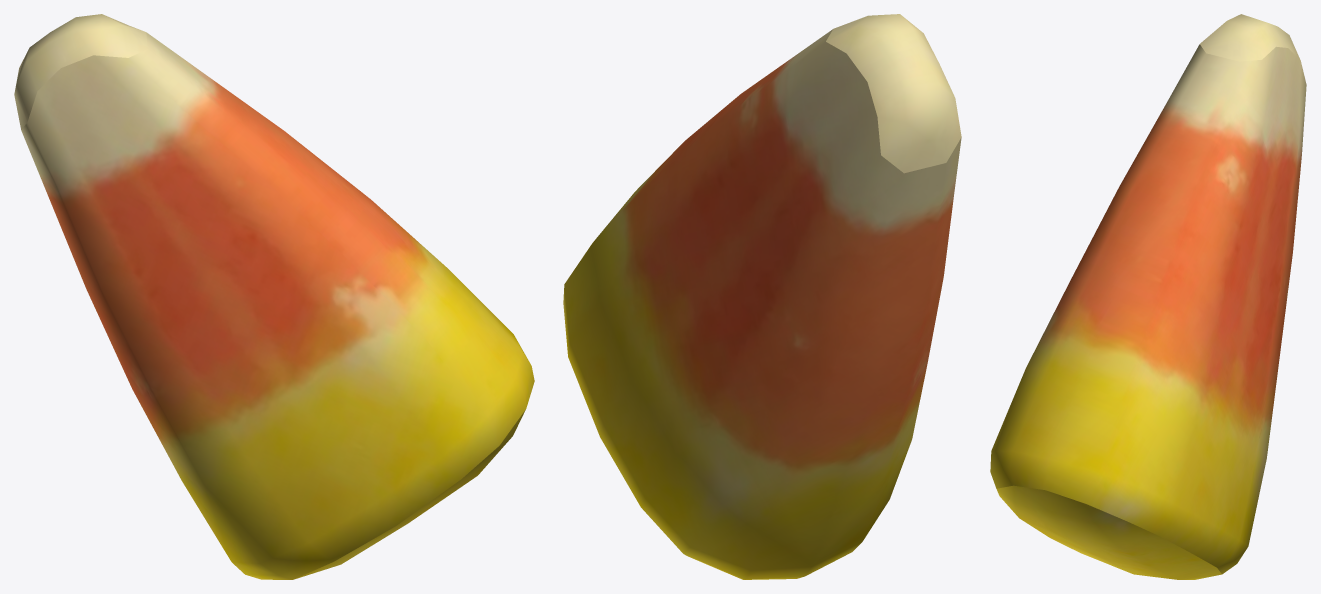
File: candyicon.glb
3 views of the same model, side by side, from view 1: azimuth 30°, elevation 25°; view 2: azimuth 150°, elevation 25°; view 3: azimuth 270°, elevation 25° (orthographic). The views are drawn at different scales.
Parts seen in each view (by area): view 1: CandyCorn_LOD0; view 2: CandyCorn_LOD0; view 3: CandyCorn_LOD0.
Part boxes in pixels (bbox=[...]): CandyCorn_LOD0: bbox=[14, 14, 534, 579]; CandyCorn_LOD0: bbox=[563, 14, 961, 579]; CandyCorn_LOD0: bbox=[990, 14, 1306, 579].
Size of the model in its own units: 0.1468 by 0.1857 by 0.1087.
1 material, 1 textured.
